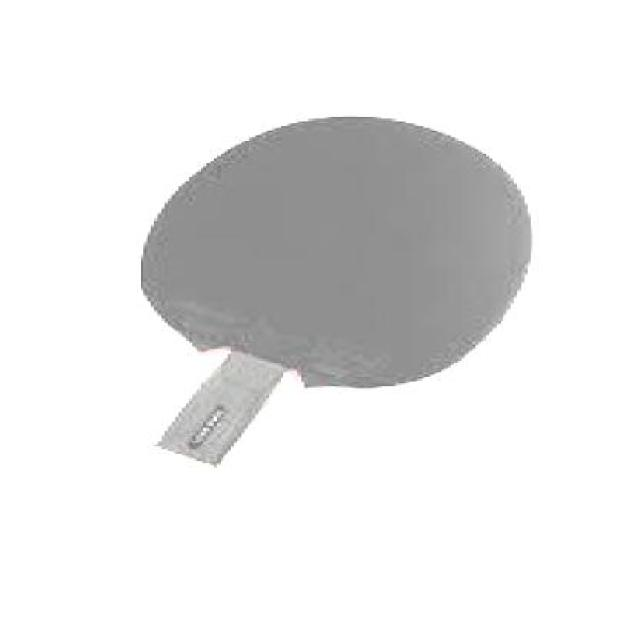table_tennis_racket: (127, 115, 539, 391)
